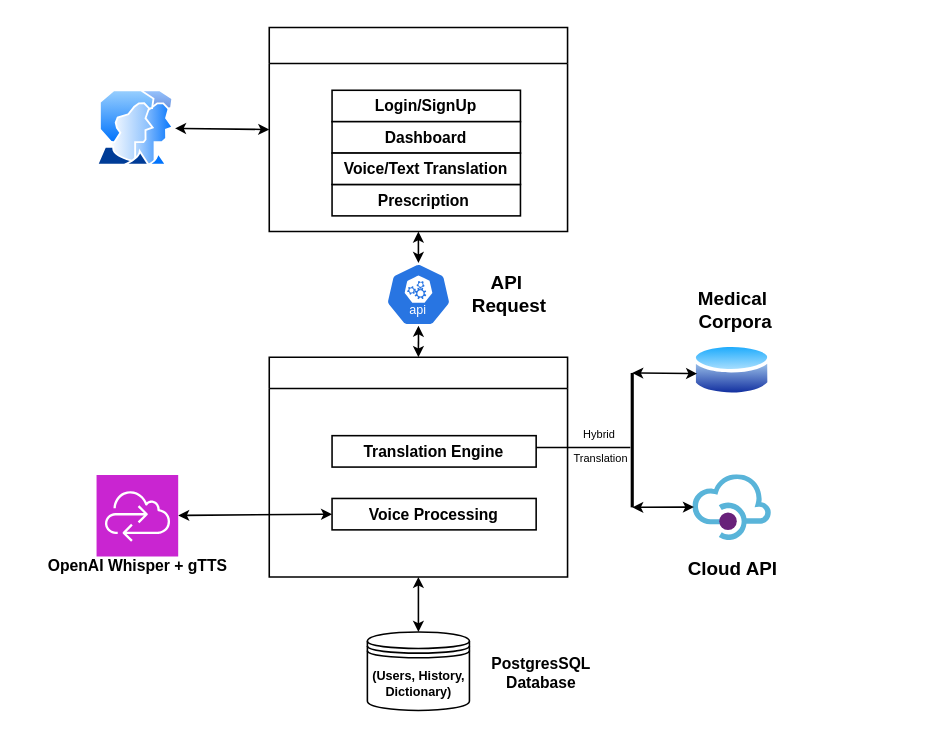
The diagram is 940 pixels wide and 755 high, and some of its shapes have lost their labels. The shapes that lost their labels are listed below. From the top down, each one's box as (x1, y1, x2, y2) in pixels, then its label:
(268, 26, 568, 232): User Interface
(268, 356, 568, 577): Django Backend
